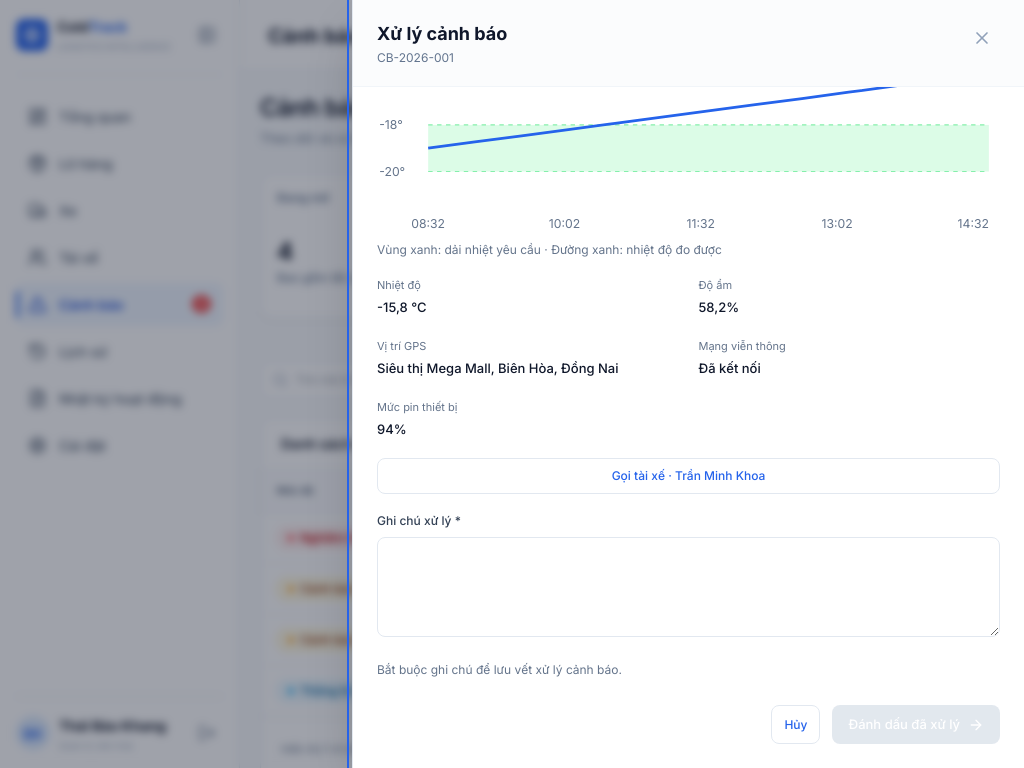
Test: B2 navigation and data states › validates mandatory note and updates alert and sidebar badge
(page scrolled)
Expected: the button "Đánh dấu đã xử lý" is disabled, [832,705,1000,744]
Type "Đã kiểm tra thiết bị và cửa thùng." into the text box labelled "Ghi chú xử lý *" at (688, 587), box [377,537,1000,637]
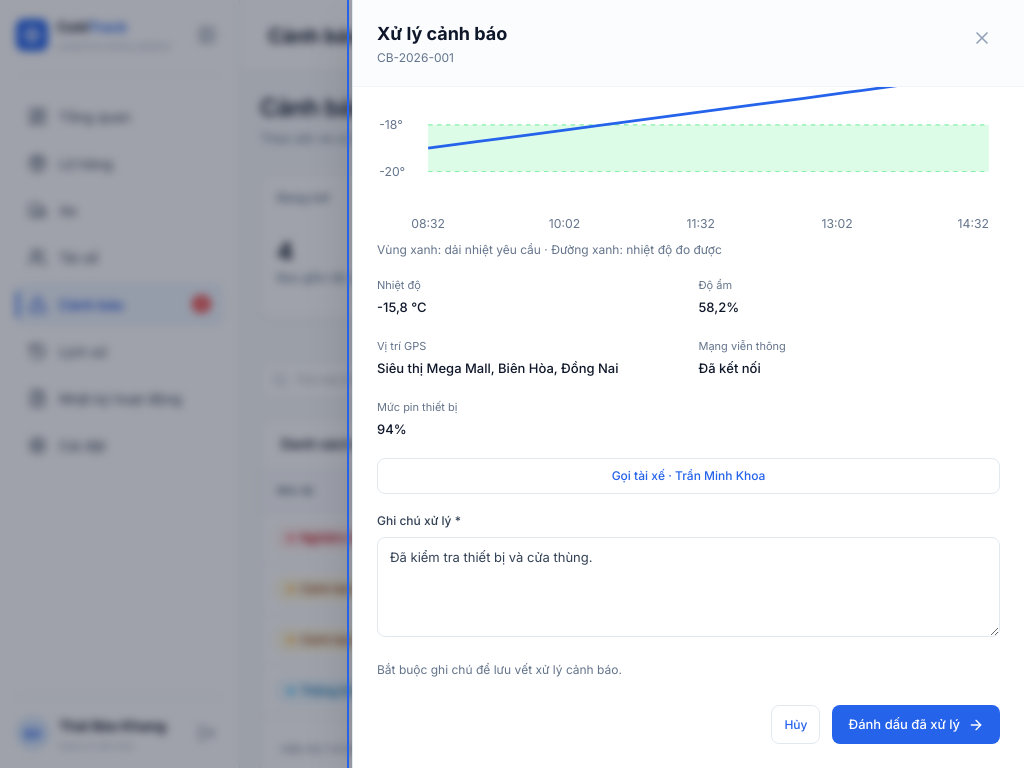
Click the button "Đánh dấu đã xử lý" at (916, 725), box [832,705,1000,744]
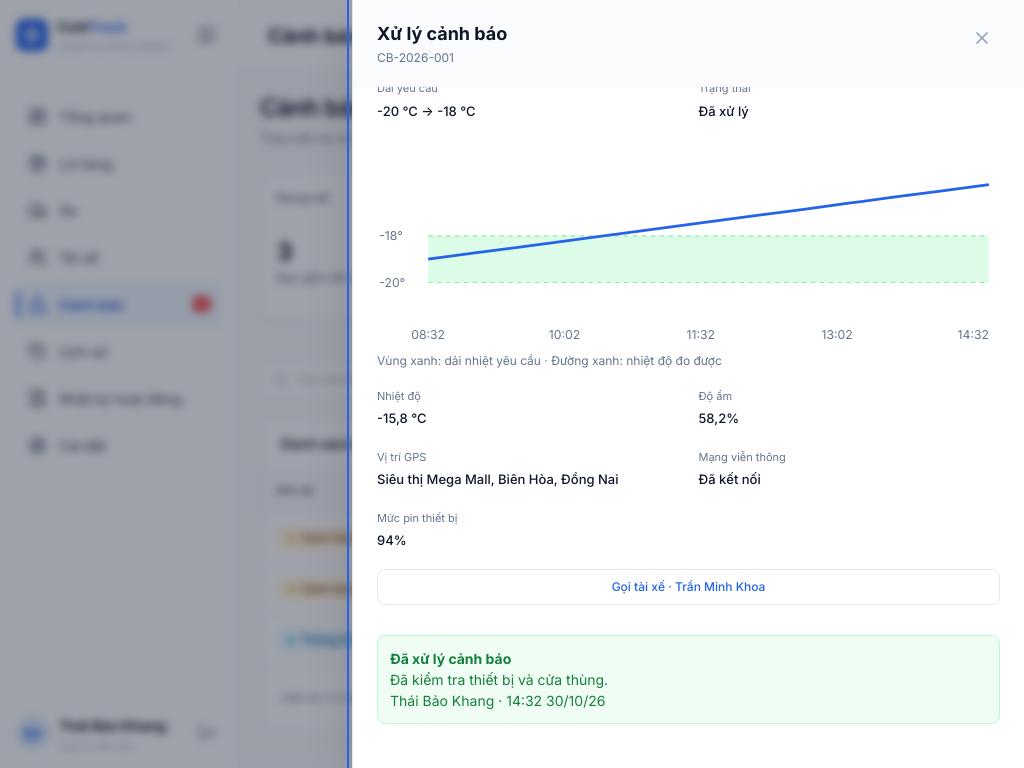
Expected: the link "Cảnh báo 2" is shown, [16,282,223,326]
Now the text "Đã xử lý cảnh báo" is shown, box [390,650,511,667]
